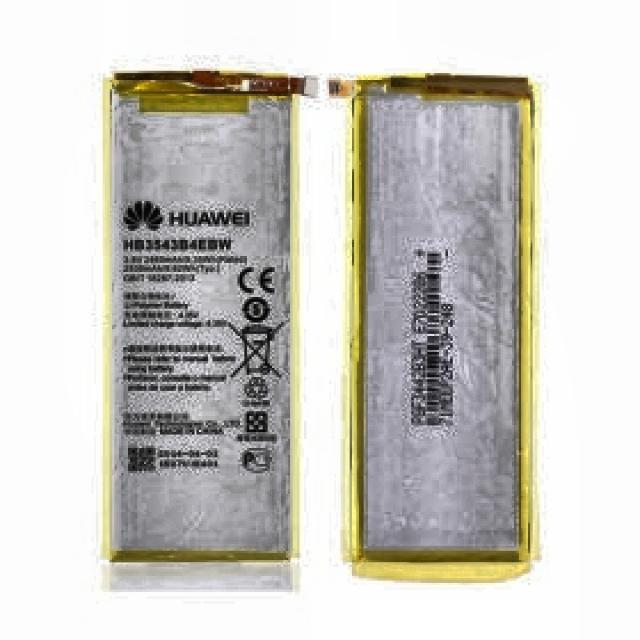Non-Valuable Waste - Batteries: (109, 72, 315, 559), (356, 78, 531, 578)
